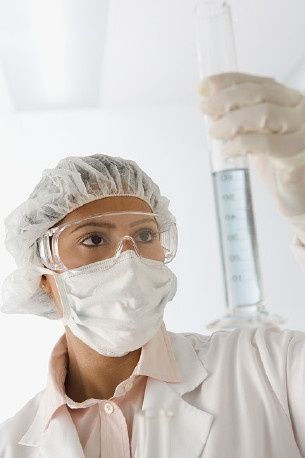Mask: (51, 216, 193, 358)
